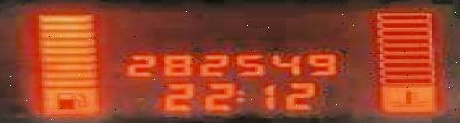1: (258, 81, 276, 109)
2: (197, 80, 234, 109), (281, 80, 315, 110), (156, 81, 192, 109), (122, 53, 156, 77), (195, 52, 226, 75)
4: (265, 52, 299, 75)
5: (232, 53, 263, 77)
8: (159, 53, 190, 77)
9: (302, 52, 336, 75)
X: (234, 87, 244, 103)
